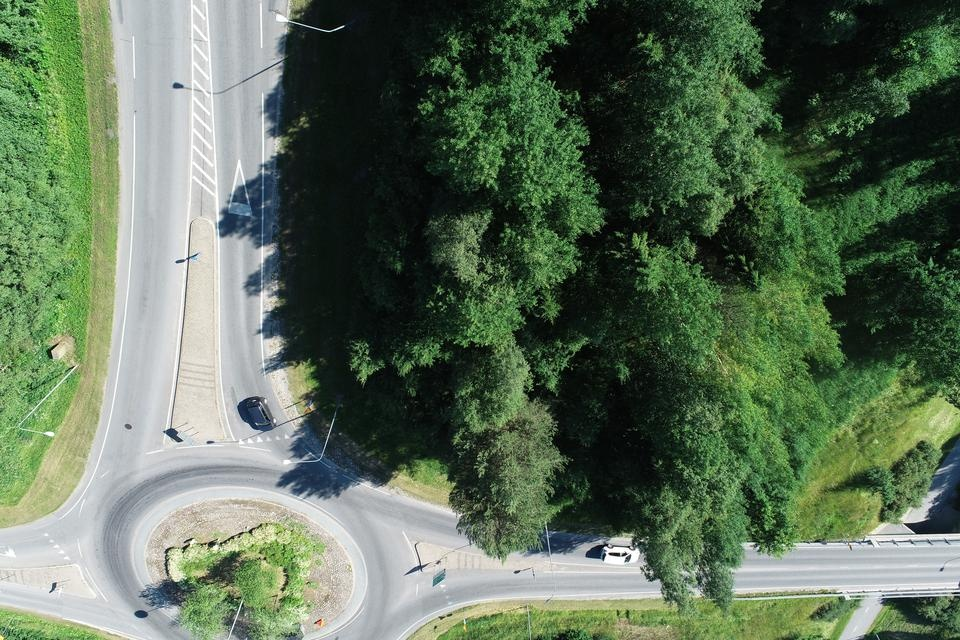roundabout: (21, 371, 488, 640)
